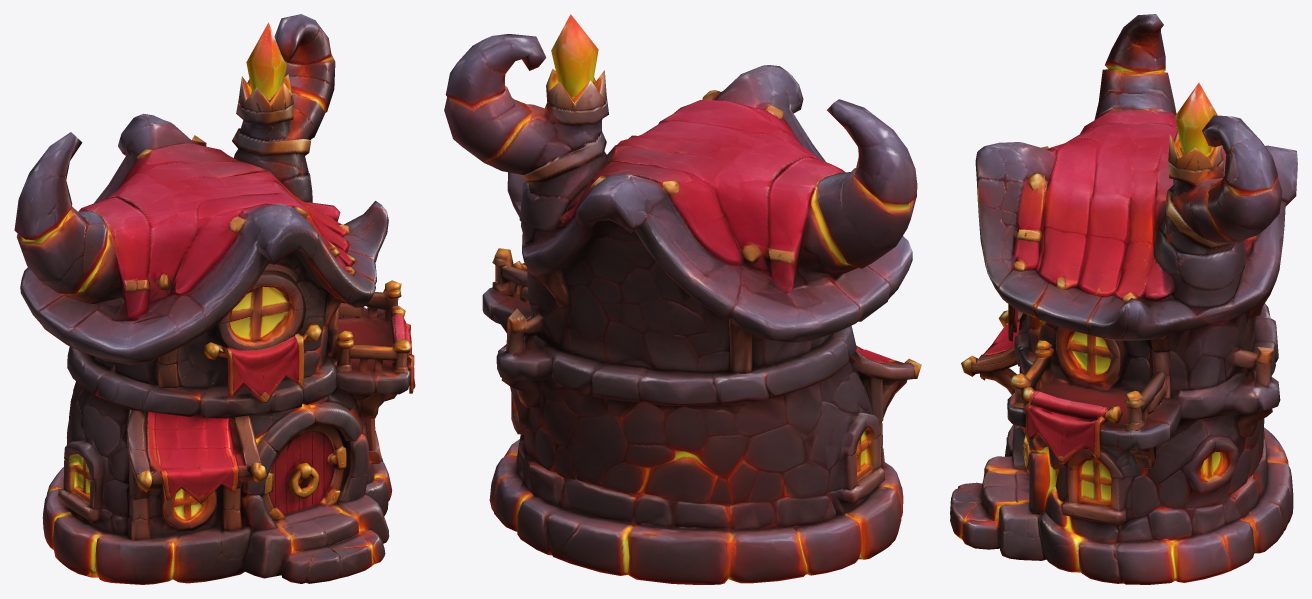
Rendered from Town_Horns_HouseC_HD.glb.
3 renders of one model, left to right at view 1: azimuth 30°, elevation 25°; view 2: azimuth 150°, elevation 25°; view 3: azimuth 270°, elevation 25°, orthographic. The views are drawn at different scales.
Visible parts, largest first — view 1: tripo_node_50a63f0f-78c7-4fdb-8f09-82de743c7f4e; view 2: tripo_node_50a63f0f-78c7-4fdb-8f09-82de743c7f4e; view 3: tripo_node_50a63f0f-78c7-4fdb-8f09-82de743c7f4e.
Boxes of the visible parts, bbox=[...] form: tripo_node_50a63f0f-78c7-4fdb-8f09-82de743c7f4e: bbox=[14, 14, 415, 584]; tripo_node_50a63f0f-78c7-4fdb-8f09-82de743c7f4e: bbox=[444, 14, 921, 584]; tripo_node_50a63f0f-78c7-4fdb-8f09-82de743c7f4e: bbox=[950, 14, 1297, 584].
Bounding box in the file's own units: 0.8708 × 0.9883 × 0.6722.
Materials: 1 (1 with a texture image).
